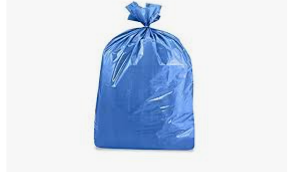kantong: (93, 1, 195, 151)
